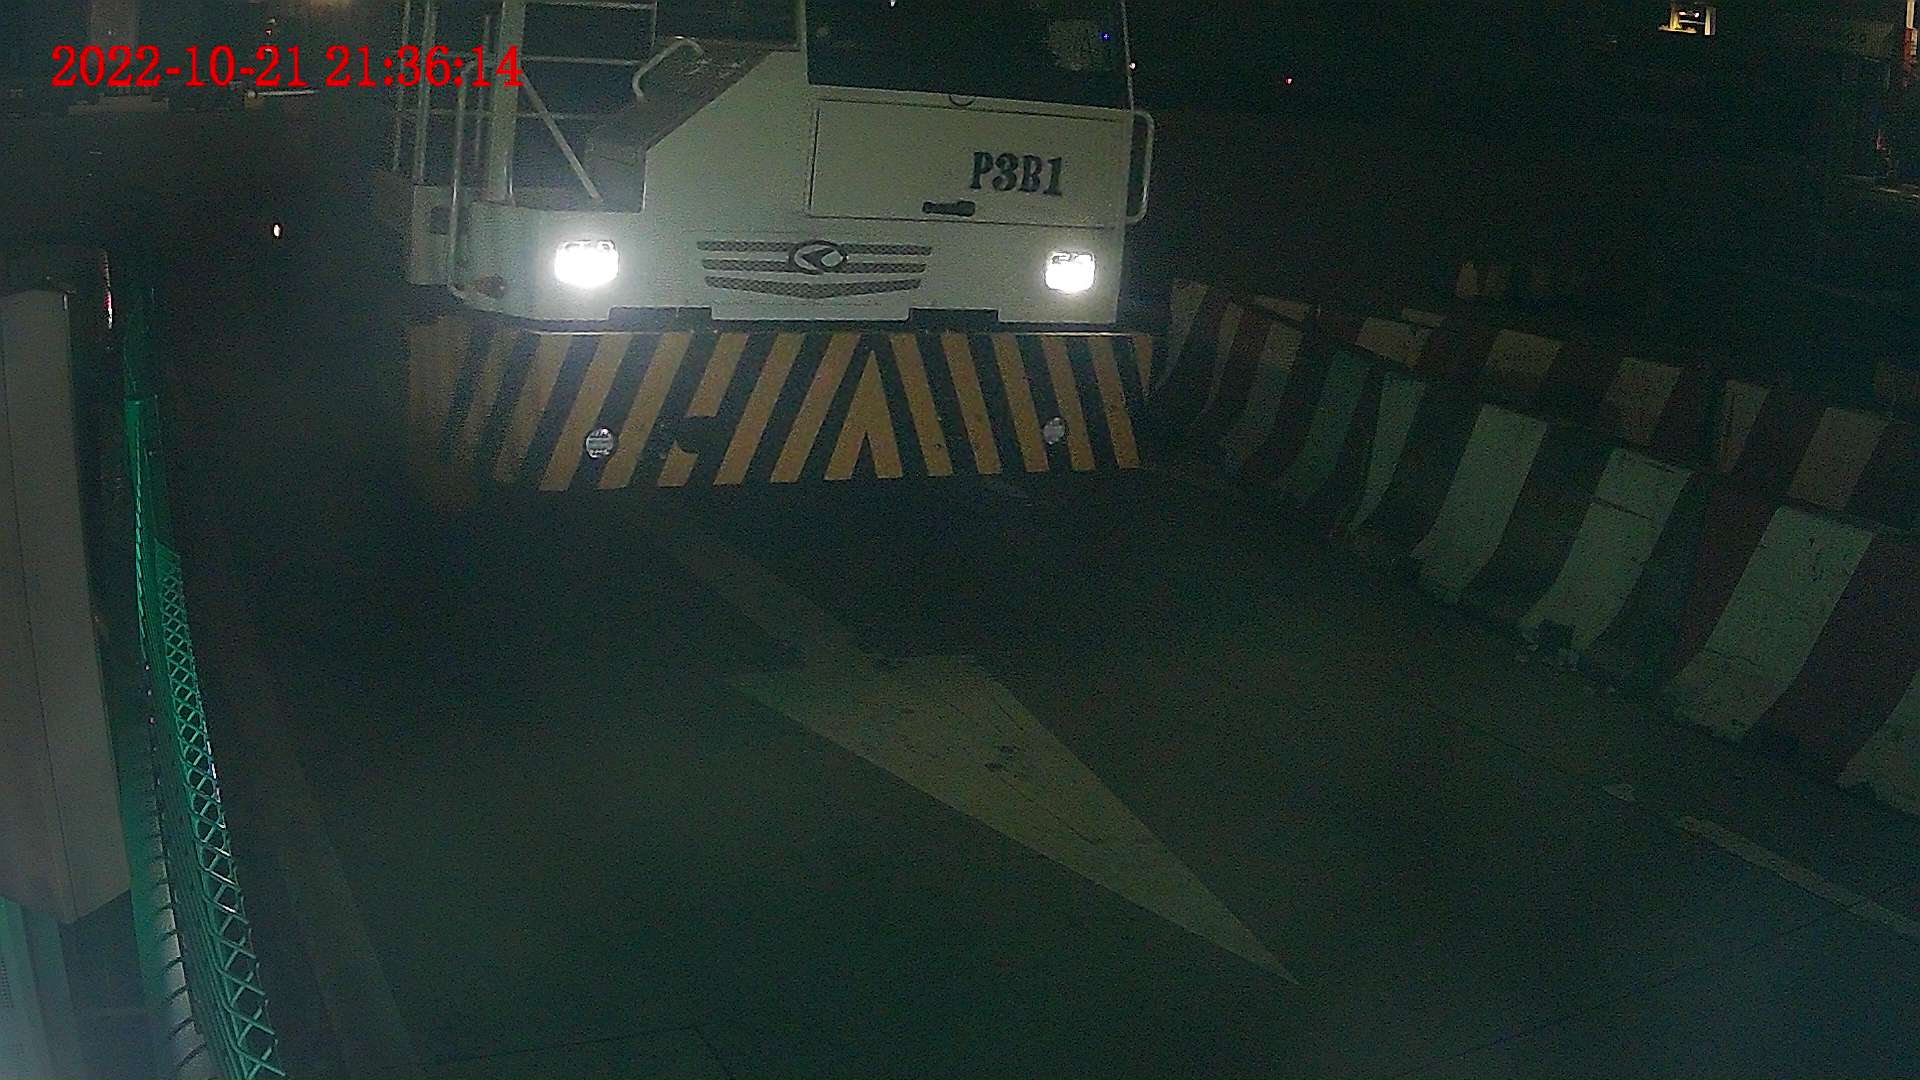head: (397, 1, 1158, 522)
